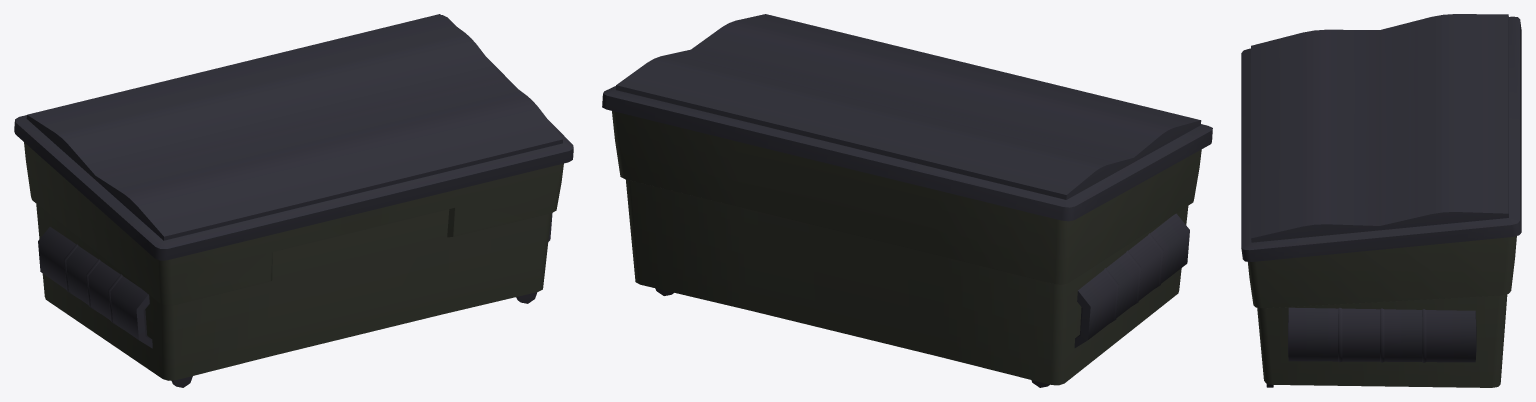
The model's file is dumpster.fbx.
3 views of the same model, side by side, from view 1: azimuth 30°, elevation 25°; view 2: azimuth 150°, elevation 25°; view 3: azimuth 270°, elevation 25° (orthographic). The views are drawn at different scales.
Visible parts, largest first — view 1: Dumpster; view 2: Dumpster; view 3: Dumpster.
Boxes of the visible parts, x1,y1,x2,y2 form: Dumpster: (14, 14, 573, 387); Dumpster: (602, 14, 1212, 387); Dumpster: (1241, 14, 1521, 387).
Size of the model in its own units: 4 by 1.71 by 2.27.
1 material, 1 textured.
